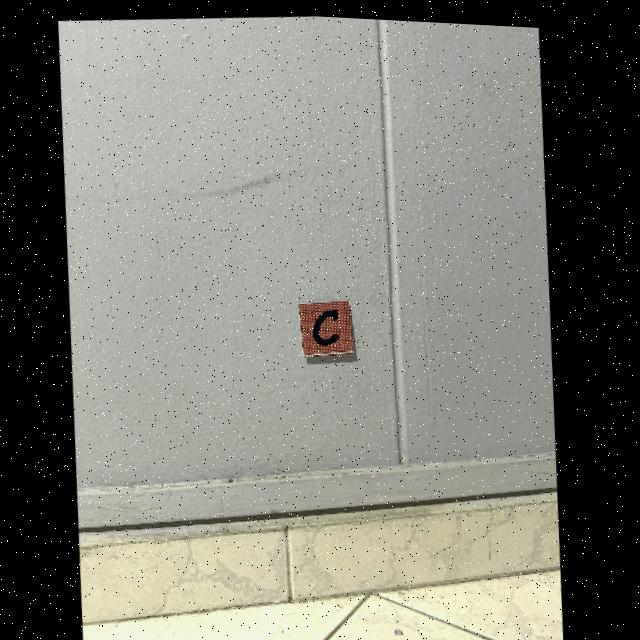C: (315, 305, 342, 342)
